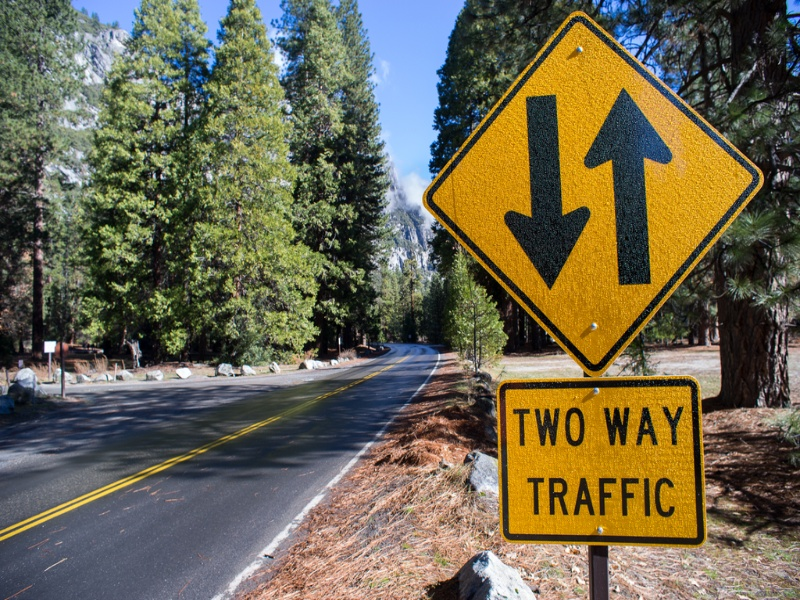two_way_traffic: (427, 48, 728, 555)
